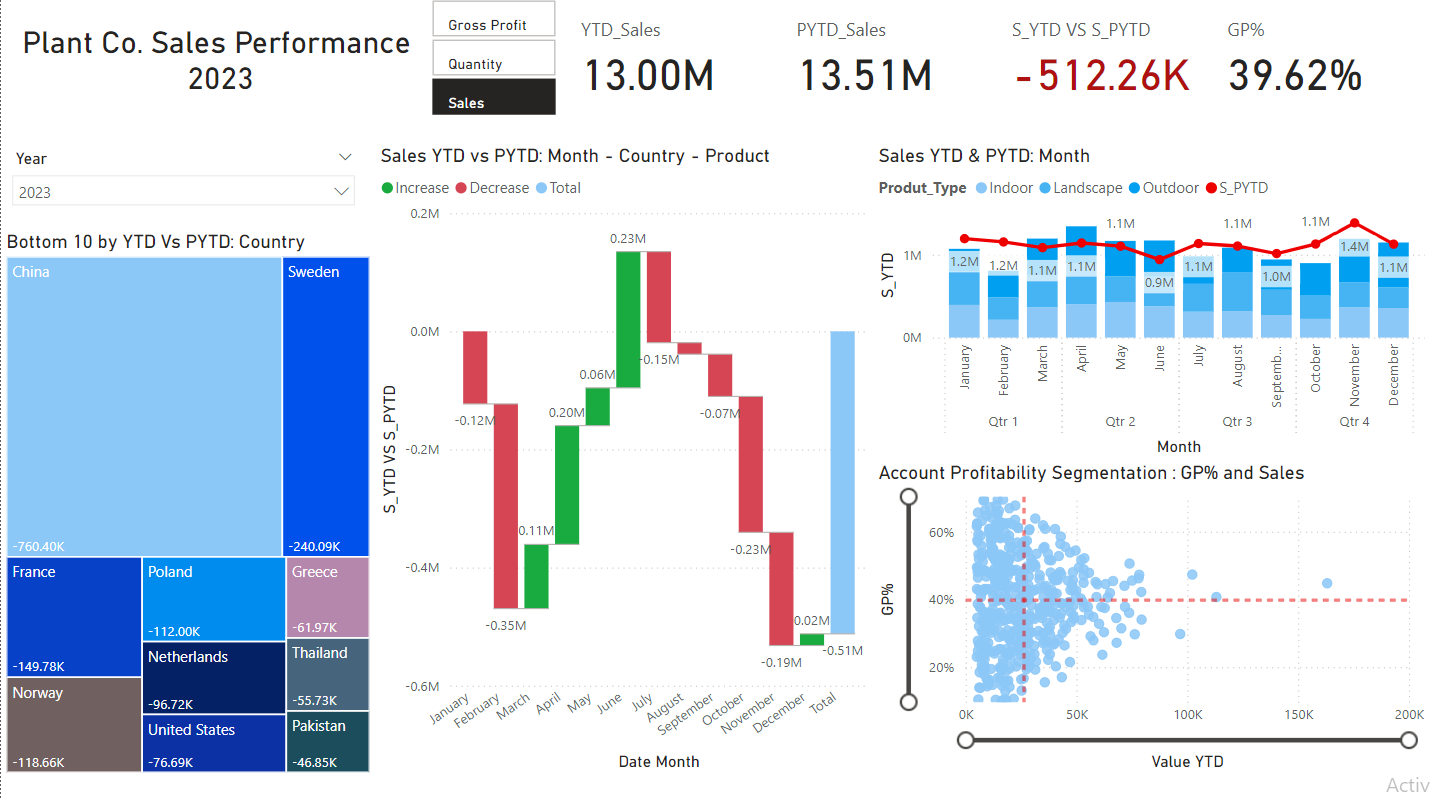

The dashboard page shown, as its layout file describes it:
{"tool":"powerbi","page":{"name":"Performance Report","canvas":[1280,720],"ordinal":0},"visuals":[{"type":"cardVisual","fields":{"Data":["__Measures.YTD_Sales","__Measures.PYTD_Sales","__Measures.S_YTD VS S_PYTD","__Measures.GP%"]},"box":[502.4,0,777.6,112],"z":0},{"type":"slicer","fields":{"Values":["Dim_Date.Date.Variation.Date Hierarchy.Year"]},"box":[0,133.3,327.5,76.8],"z":1000},{"type":"treemap","title":"Bottom 10 by YTD Vs PYTD: Country","fields":{"Group":["Dim_Accounts.country"],"Values":["__Measures.S_YTD VS S_PYTD"]},"box":[0,210.1,334.9,490.7],"z":2000},{"type":"advancedSlicerVisual","fields":{"Values":["Slc_Values.Values"]},"box":[381.9,0,120.5,112],"z":3000},{"type":"waterfallChart","fields":{"Y":["__Measures.S_YTD VS S_PYTD"],"Category":["Dim_Date.Date.Variation.Date Hierarchy.Month","Dim_Accounts.country"]},"box":[334.9,133.3,445.9,566.4],"z":4000},{"type":"lineStackedColumnComboChart","fields":{"Y":["__Measures.S_YTD"],"Category":["Dim_Date.Date.Variation.Date Hierarchy.Quarter","Dim_Date.Date.Variation.Date Hierarchy.Month"],"Y2":["__Measures.S_PYTD"],"Series":["Dim_Product.Produt_Type"]},"box":[780.8,133.3,499.2,283.7],"z":5000},{"type":"scatterChart","fields":{"Y":["__Measures.GP%"],"X":["__Measures.S_YTD"],"Category":["Dim_Accounts.Account"]},"box":[781,417,499,282],"z":6000},{"type":"card","fields":{"Values":["__Measures.-REPORT TITLE"]},"box":[0,0,386.1,112],"z":6001}]}

Visuals, with their boxes in screenshot pixels (x1, y1, x2, y2), scaled from the page's 1280x720 canvas onto the 1430x799 screenshot:
cardVisual - __Measures.YTD_Sales x __Measures.PYTD_Sales: <bbox>561, 0, 1429, 124</bbox>
slicer - Dim_Date.Date.Variation.Date Hierarchy.Year: <bbox>0, 148, 366, 233</bbox>
"Bottom 10 by YTD Vs PYTD: Country" treemap: <bbox>0, 233, 374, 778</bbox>
advancedSlicerVisual - Slc_Values.Values: <bbox>427, 0, 561, 124</bbox>
waterfallChart - __Measures.S_YTD VS S_PYTD x Dim_Date.Date.Variation.Date Hierarchy.Month: <bbox>374, 148, 872, 776</bbox>
lineStackedColumnComboChart - __Measures.S_YTD x Dim_Date.Date.Variation.Date Hierarchy.Quarter: <bbox>872, 148, 1429, 463</bbox>
scatterChart - __Measures.GP% x __Measures.S_YTD: <bbox>873, 463, 1429, 776</bbox>
card - __Measures.-REPORT TITLE: <bbox>0, 0, 431, 124</bbox>
